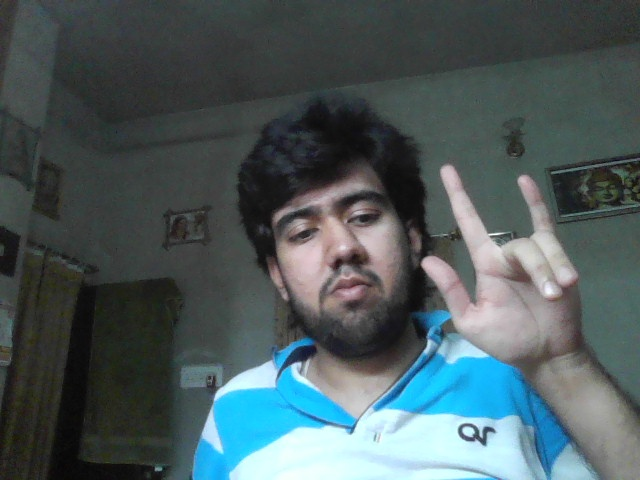ILoveYou: (421, 163, 583, 359)
